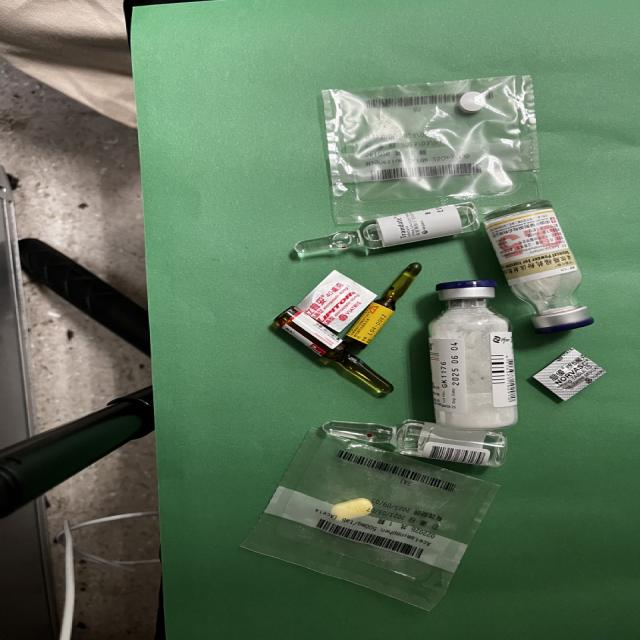Ampoules: (275, 306, 394, 393), (293, 202, 480, 254), (322, 420, 509, 468), (345, 262, 421, 348)
Vials: (483, 200, 595, 335), (428, 280, 518, 428)
